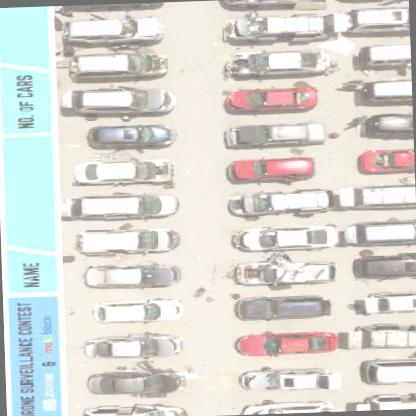car: (61, 85, 178, 117), (62, 191, 182, 221), (224, 186, 328, 218), (233, 327, 340, 358), (64, 15, 166, 47), (84, 330, 186, 362), (225, 120, 327, 152), (67, 50, 170, 81), (74, 228, 180, 258), (230, 50, 332, 80), (223, 84, 321, 115), (226, 12, 326, 42), (240, 364, 342, 393), (86, 368, 188, 396), (233, 260, 342, 286), (76, 157, 180, 184), (236, 223, 340, 250), (84, 261, 182, 289), (85, 123, 178, 151), (225, 156, 317, 184), (234, 294, 326, 322), (94, 297, 184, 325), (341, 180, 415, 210), (347, 4, 409, 34), (351, 323, 415, 352), (344, 220, 415, 245), (357, 253, 415, 281), (357, 360, 415, 387), (80, 401, 191, 415), (358, 146, 414, 173), (364, 110, 412, 140), (242, 399, 337, 414), (364, 78, 412, 104), (362, 290, 415, 313), (355, 392, 415, 411), (363, 42, 410, 66)
